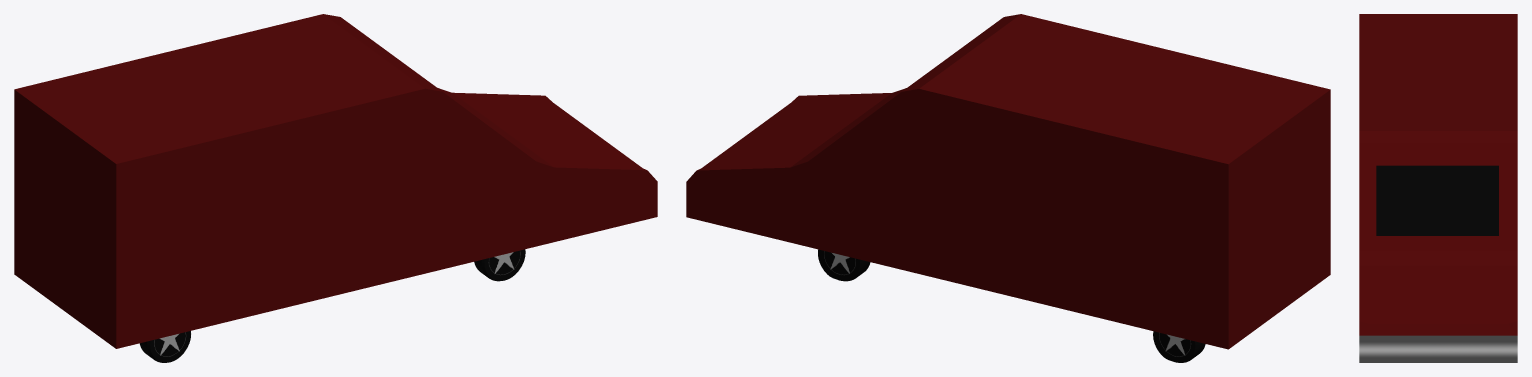
3 views of the same model, side by side, from view 1: azimuth 30°, elevation 25°; view 2: azimuth 150°, elevation 25°; view 3: azimuth 270°, elevation 25° (orthographic). The views are drawn at different scales.
Visible parts, largest first — view 1: Cube, 左後, 右前; view 2: Cube, 左前, 右後; view 3: Cube.
Boxes of the visible parts, box(x1,y1,x2,y2) form: Cube: box(14, 14, 657, 348); 左後: box(139, 331, 190, 362); 右前: box(474, 249, 525, 281); Cube: box(686, 14, 1330, 349); 左前: box(818, 249, 870, 281); 右後: box(1153, 331, 1205, 362); Cube: box(1359, 14, 1517, 362).
Size of the model in its own units: 613 by 200 by 250.
Materials: 6 (6 with a texture image).
